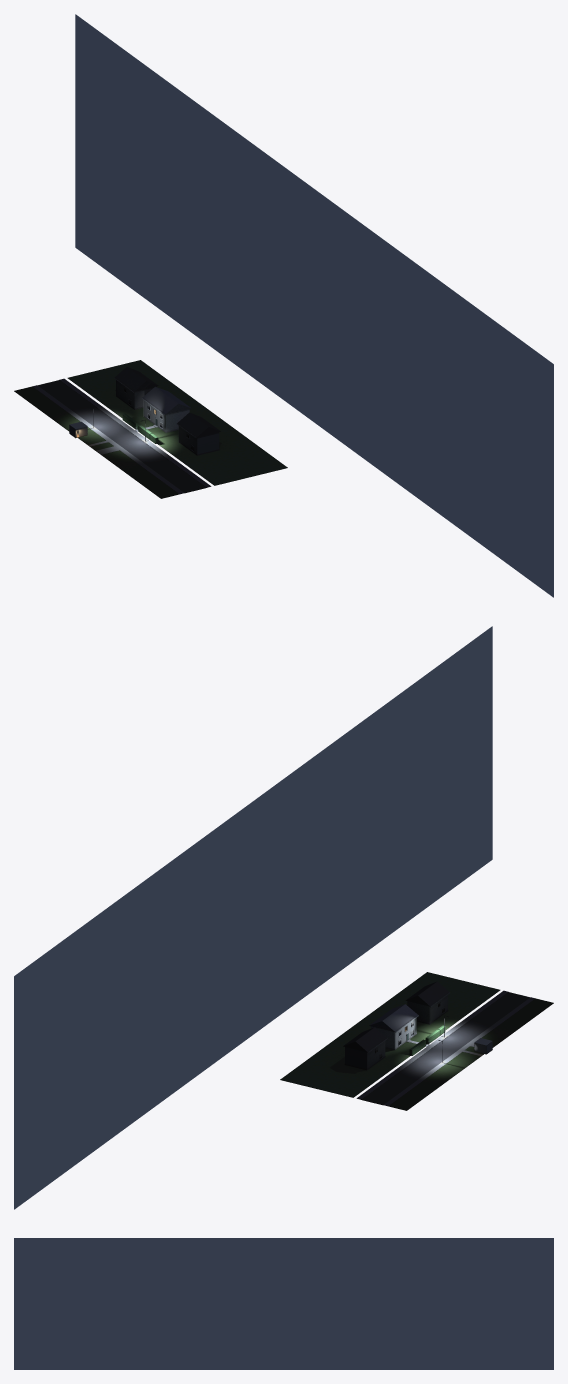
Rendered from study.glb.
3 renders of one model, top to bottom at view 1: azimuth 30°, elevation 25°; view 2: azimuth 150°, elevation 25°; view 3: azimuth 270°, elevation 25°, orthographic. The views are drawn at different scales.
Visible parts, largest first — view 1: SkyPlane, Street, Front14; view 2: SkyPlane, Street, Front14; view 3: SkyPlane.
Part boxes in pixels (x1,y1,x2,y2): SkyPlane: (75,14,553,597); Street: (14,367,220,498); Front14: (67,360,287,485); SkyPlane: (14,626,492,1209); Street: (343,981,553,1110); Front14: (280,972,500,1097); SkyPlane: (14,1238,553,1369).
Bounding box in the file's own units: 75.17 × 70 × 260.
Materials: 8 (5 with a texture image).
